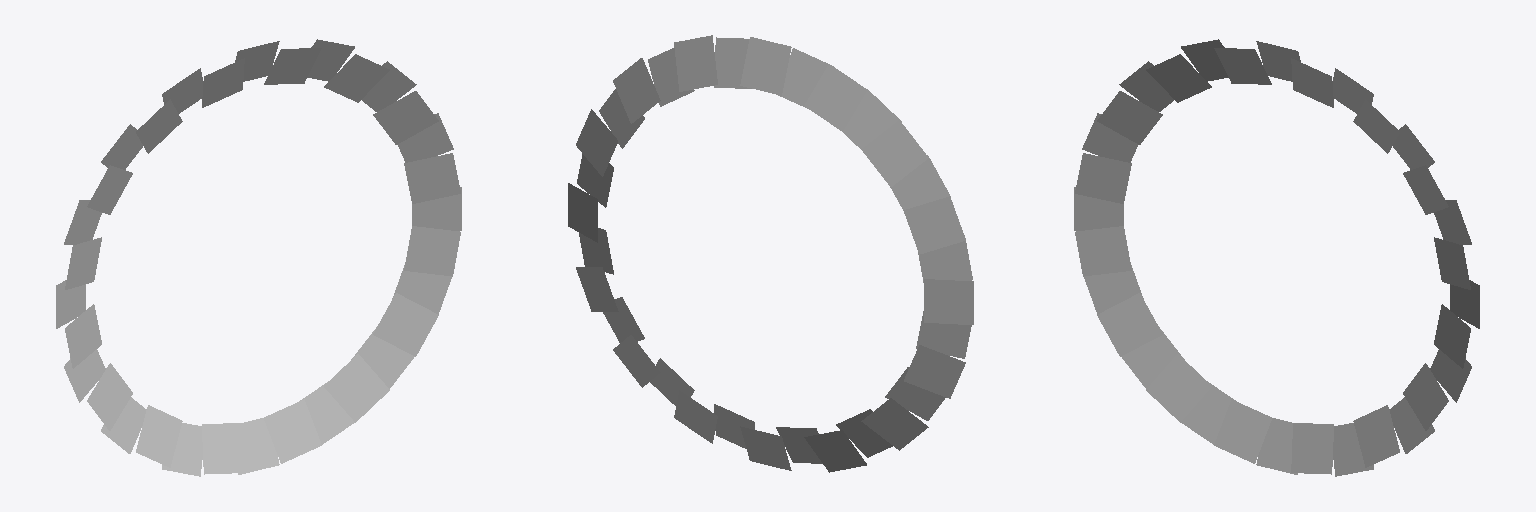
The model's file is OuterPixels_NegativeEndcap_Ring0_sensitives_l25.obj.
3 renders of one model, left to right at view 1: azimuth 30°, elevation 25°; view 2: azimuth 150°, elevation 25°; view 3: azimuth 330°, elevation 25°, orthographic.
Bounding box in the file's own units: 379 × 379 × 22.53.